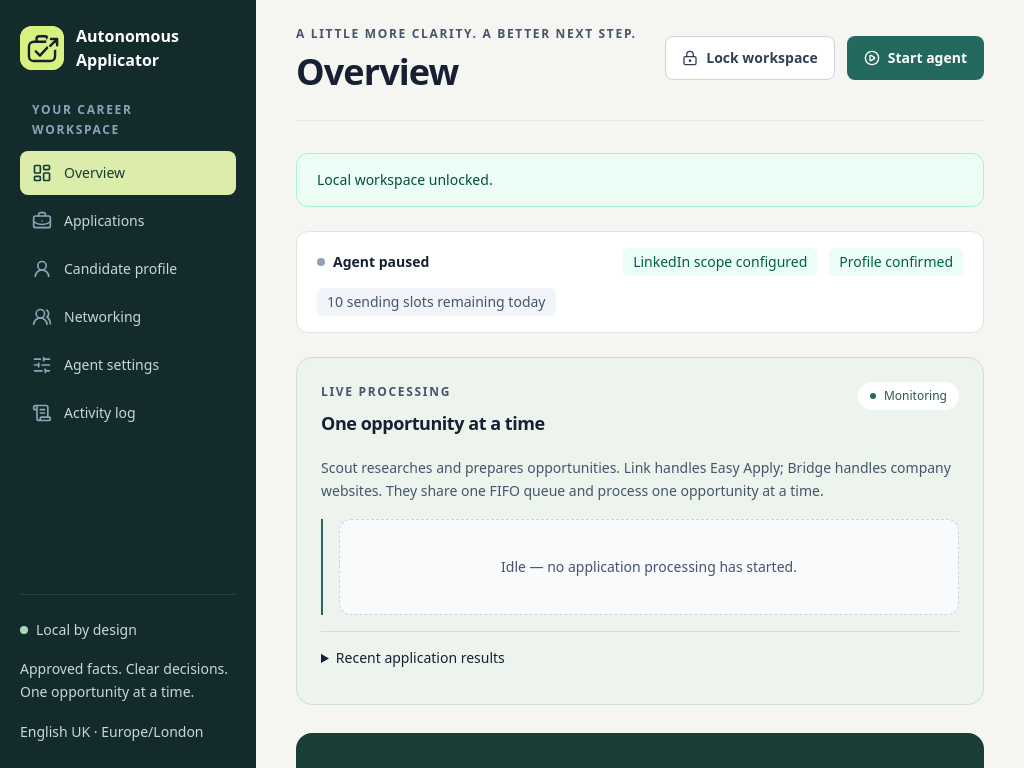
Test case: reports failed starts without changing the enabled state and allows retry
What coordinates should you click on to do the following:
click the button "Start agent"
I would click on:
 (915, 58)
Its box is x1=847 y1=36 x2=984 y2=80.
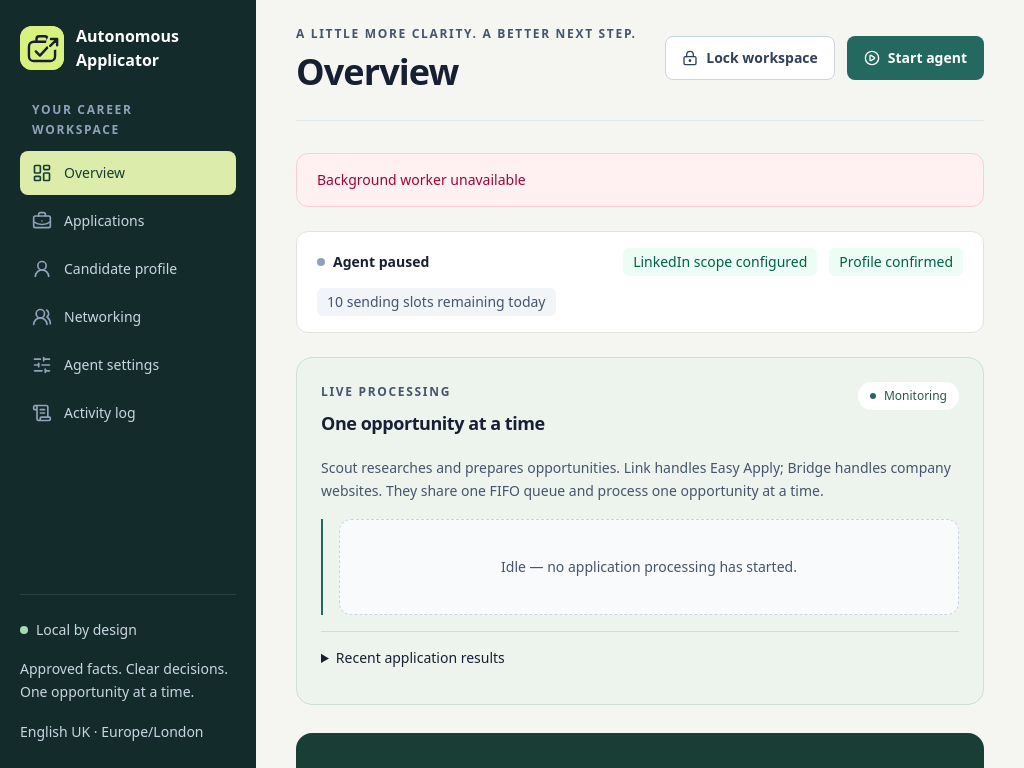
Check: the message with id "notice" reads "Background worker unavailable", box x1=317 y1=170 x2=526 y2=188
